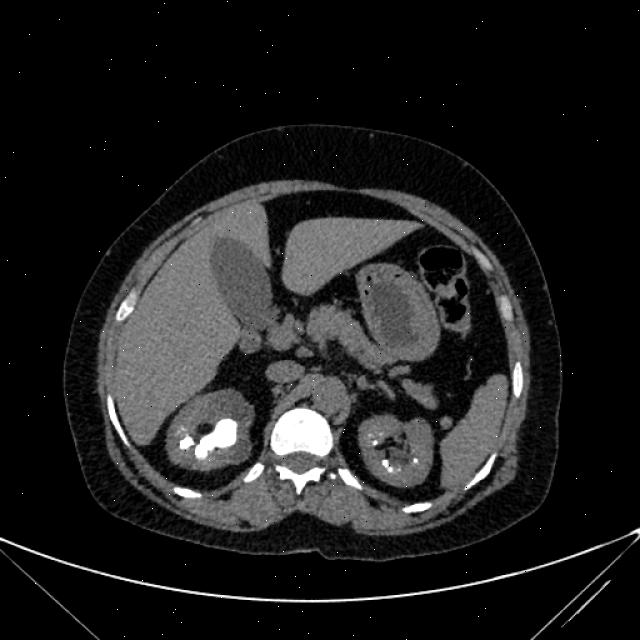kidneystone: (205, 419, 238, 463), (179, 435, 195, 449), (382, 459, 389, 467), (372, 440, 379, 446), (386, 466, 392, 472), (412, 458, 419, 463)
